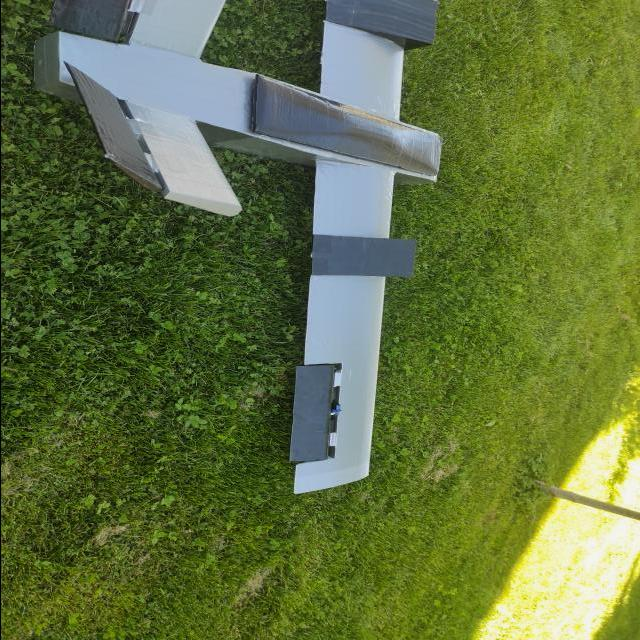plane: (31, 0, 444, 495)
